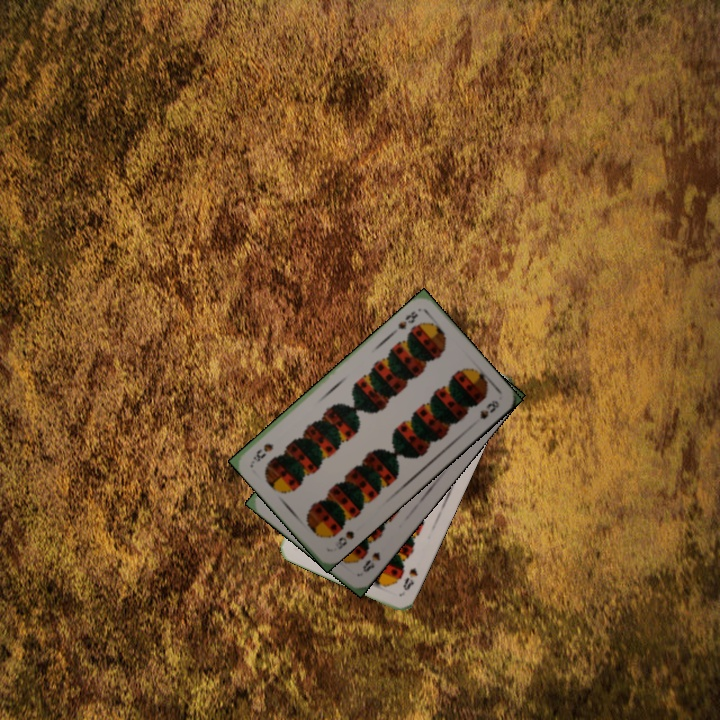S8: (331, 526, 357, 552), (358, 548, 383, 575), (394, 307, 421, 332), (399, 563, 420, 593)
